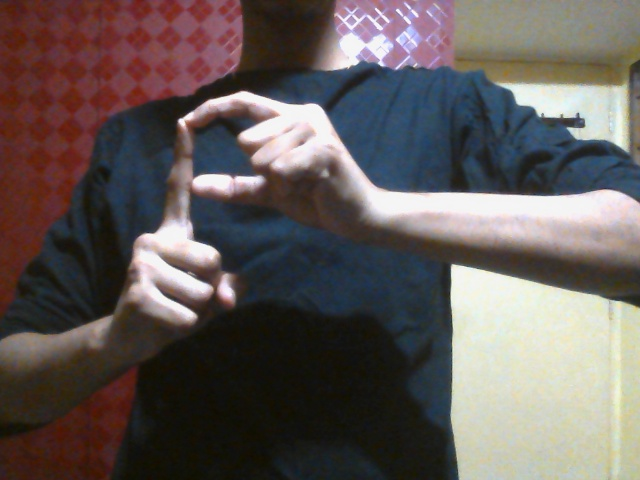P: (114, 89, 357, 366)
